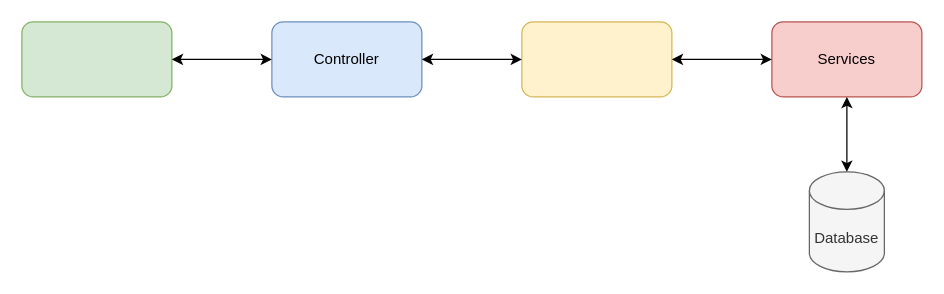
This 944x294 diagram has some shape labels left out. The shapes that lost their labels are listed below. From the top down, each one's box as (x1, y1, x2, y2) in pixels, then its label:
(21, 21, 172, 97): Feature/Routes
(521, 21, 672, 97): Repository
